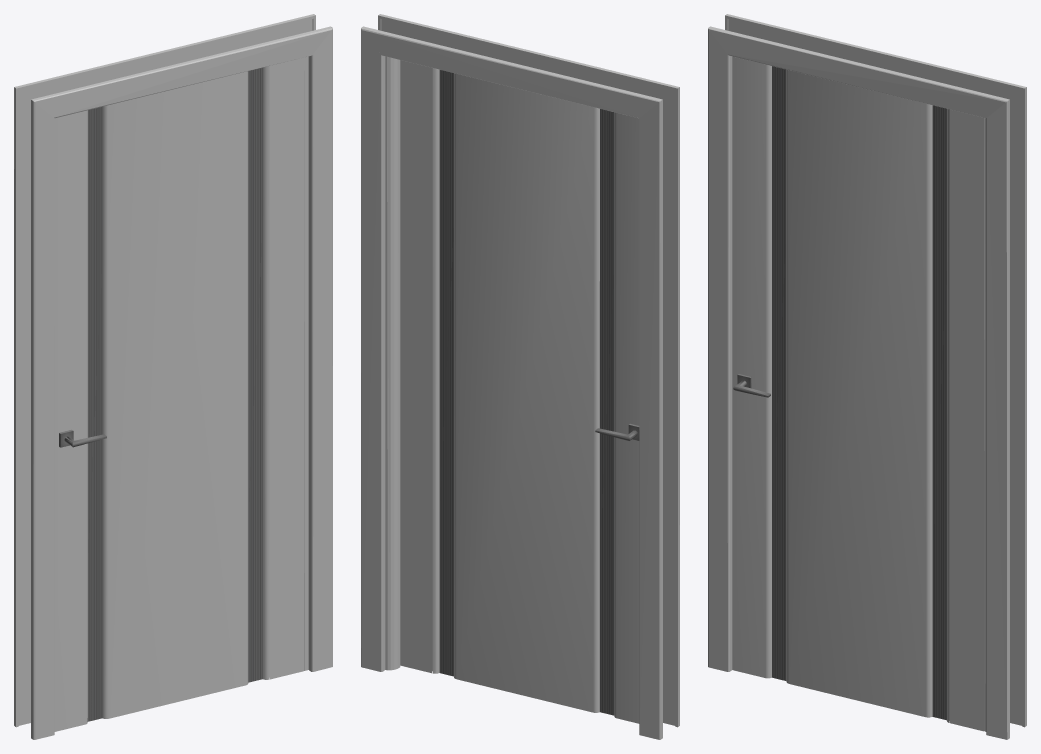
The model's file is Door.FBX.
3 renders of one model, left to right at view 1: azimuth 30°, elevation 25°; view 2: azimuth 150°, elevation 25°; view 3: azimuth 330°, elevation 25°, orthographic.
Visible parts, largest first — view 1: door, door frame; view 2: door, door frame; view 3: door, door frame.
Part boxes in pixels (x1,y1,x2,y2): door: [54, 57, 303, 731]; door frame: [14, 14, 332, 739]; door: [400, 60, 639, 723]; door frame: [361, 14, 679, 739]; door: [732, 56, 984, 731]; door frame: [708, 14, 1026, 739].
Bounding box in the file's own units: 1069 × 165 × 2177.
